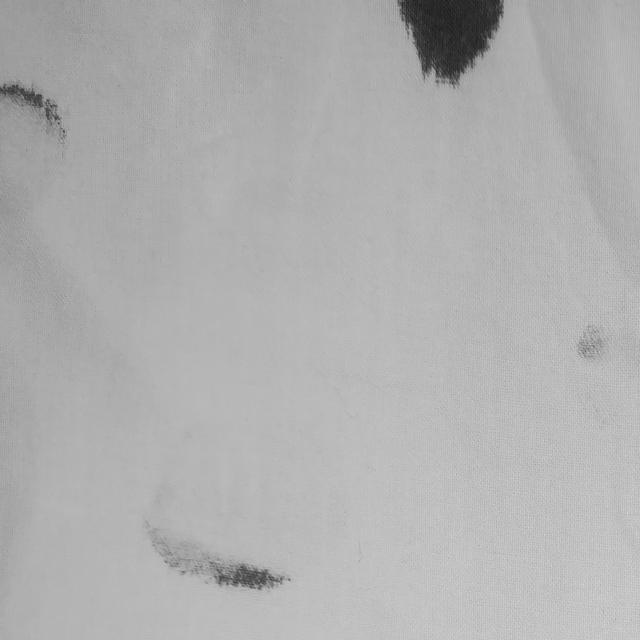Stain: (144, 520, 290, 591), (399, 0, 504, 84), (0, 83, 65, 138), (575, 322, 612, 359)
